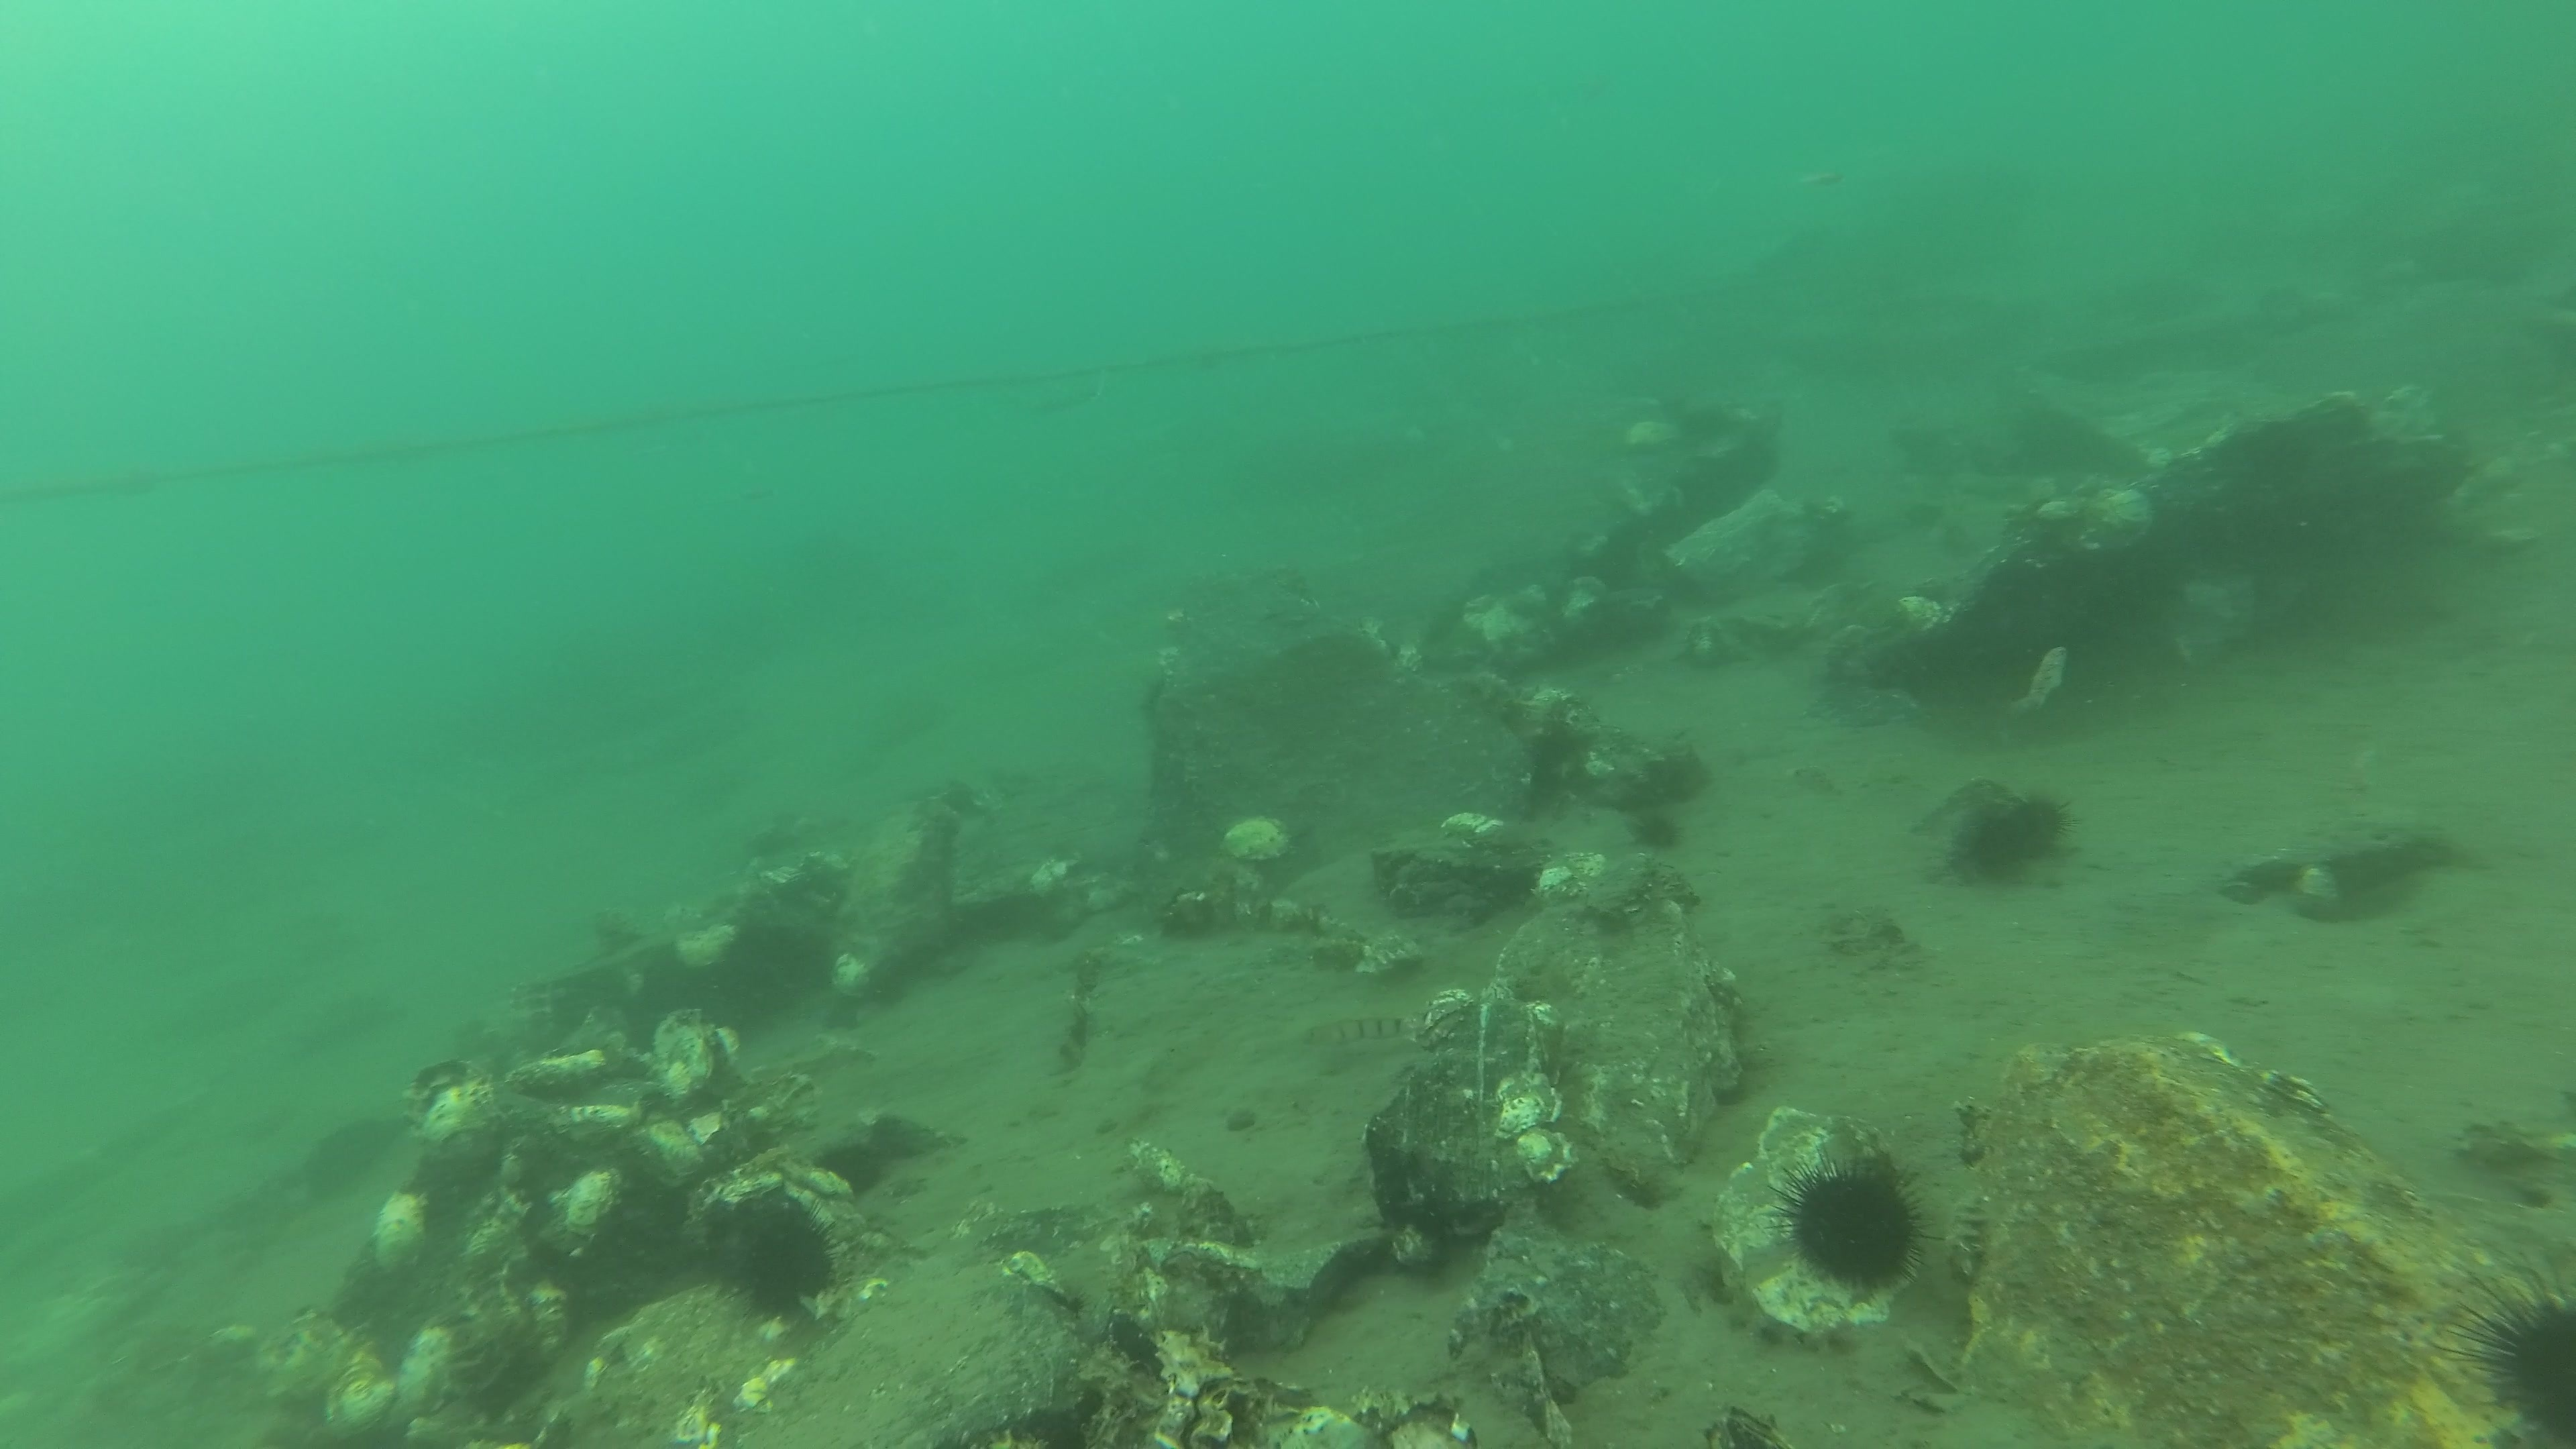echinus: (2429, 1244, 2576, 1449), (1762, 1136, 1948, 1292), (727, 1194, 846, 1322), (1967, 814, 2029, 876), (2022, 794, 2084, 853), (814, 1146, 883, 1196), (1624, 814, 1688, 851)
